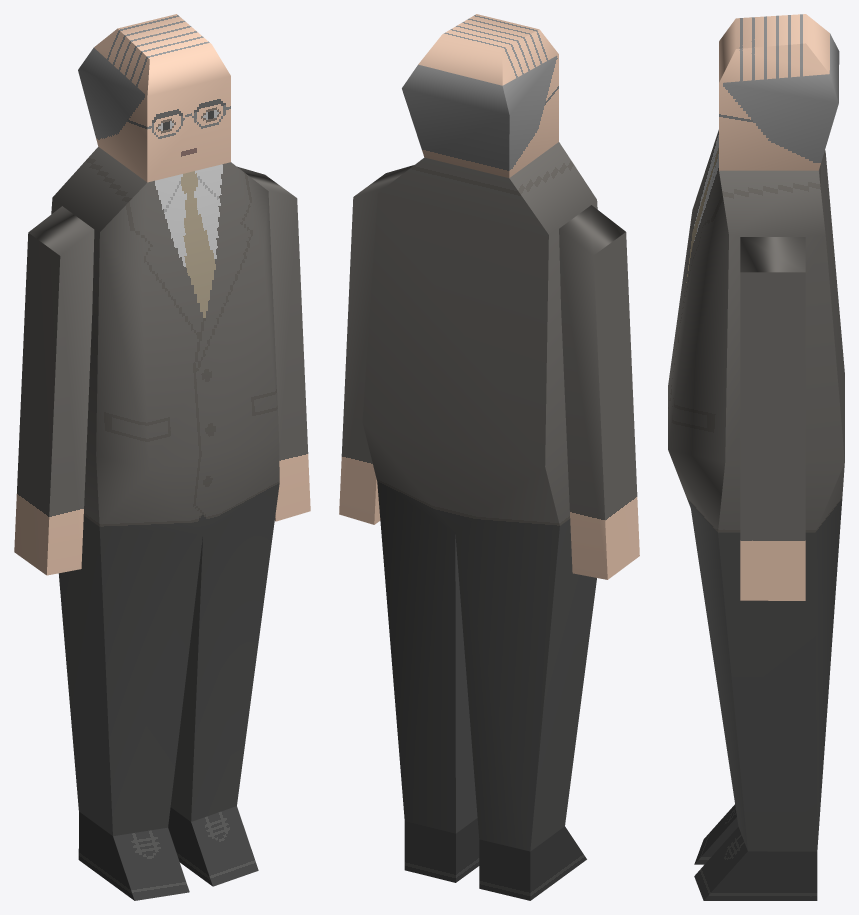
File: 040a_Principal.glb
3 renders of one model, left to right at view 1: azimuth 30°, elevation 25°; view 2: azimuth 150°, elevation 25°; view 3: azimuth 270°, elevation 25°, orthographic.
Parts seen in each view (by area): view 1: part_0; view 2: part_0; view 3: part_0.
Part boxes in pixels (<box>): part_0: <box>14,14,310,900</box>; part_0: <box>339,14,639,900</box>; part_0: <box>668,14,844,900</box>.
Size of the model in its own units: 0.5676 by 1.7 by 0.3226.
Materials: 1 (1 with a texture image).
